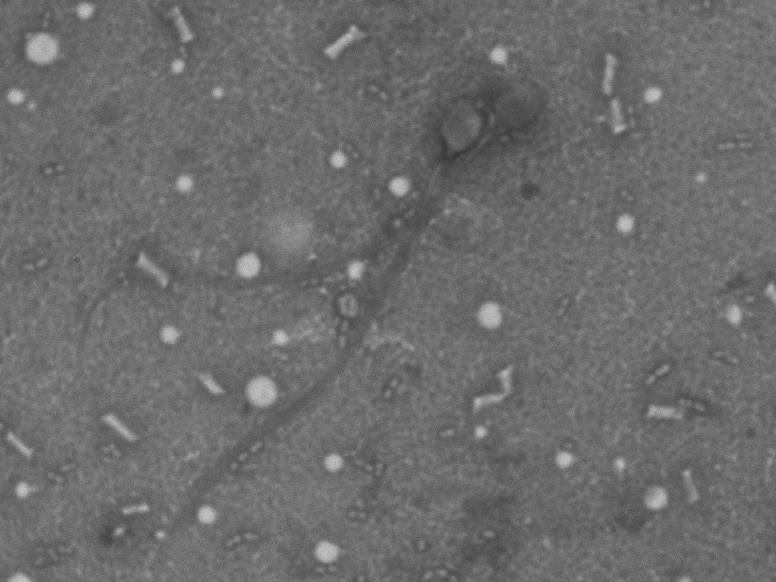Abnormal: (94, 48, 650, 359)
